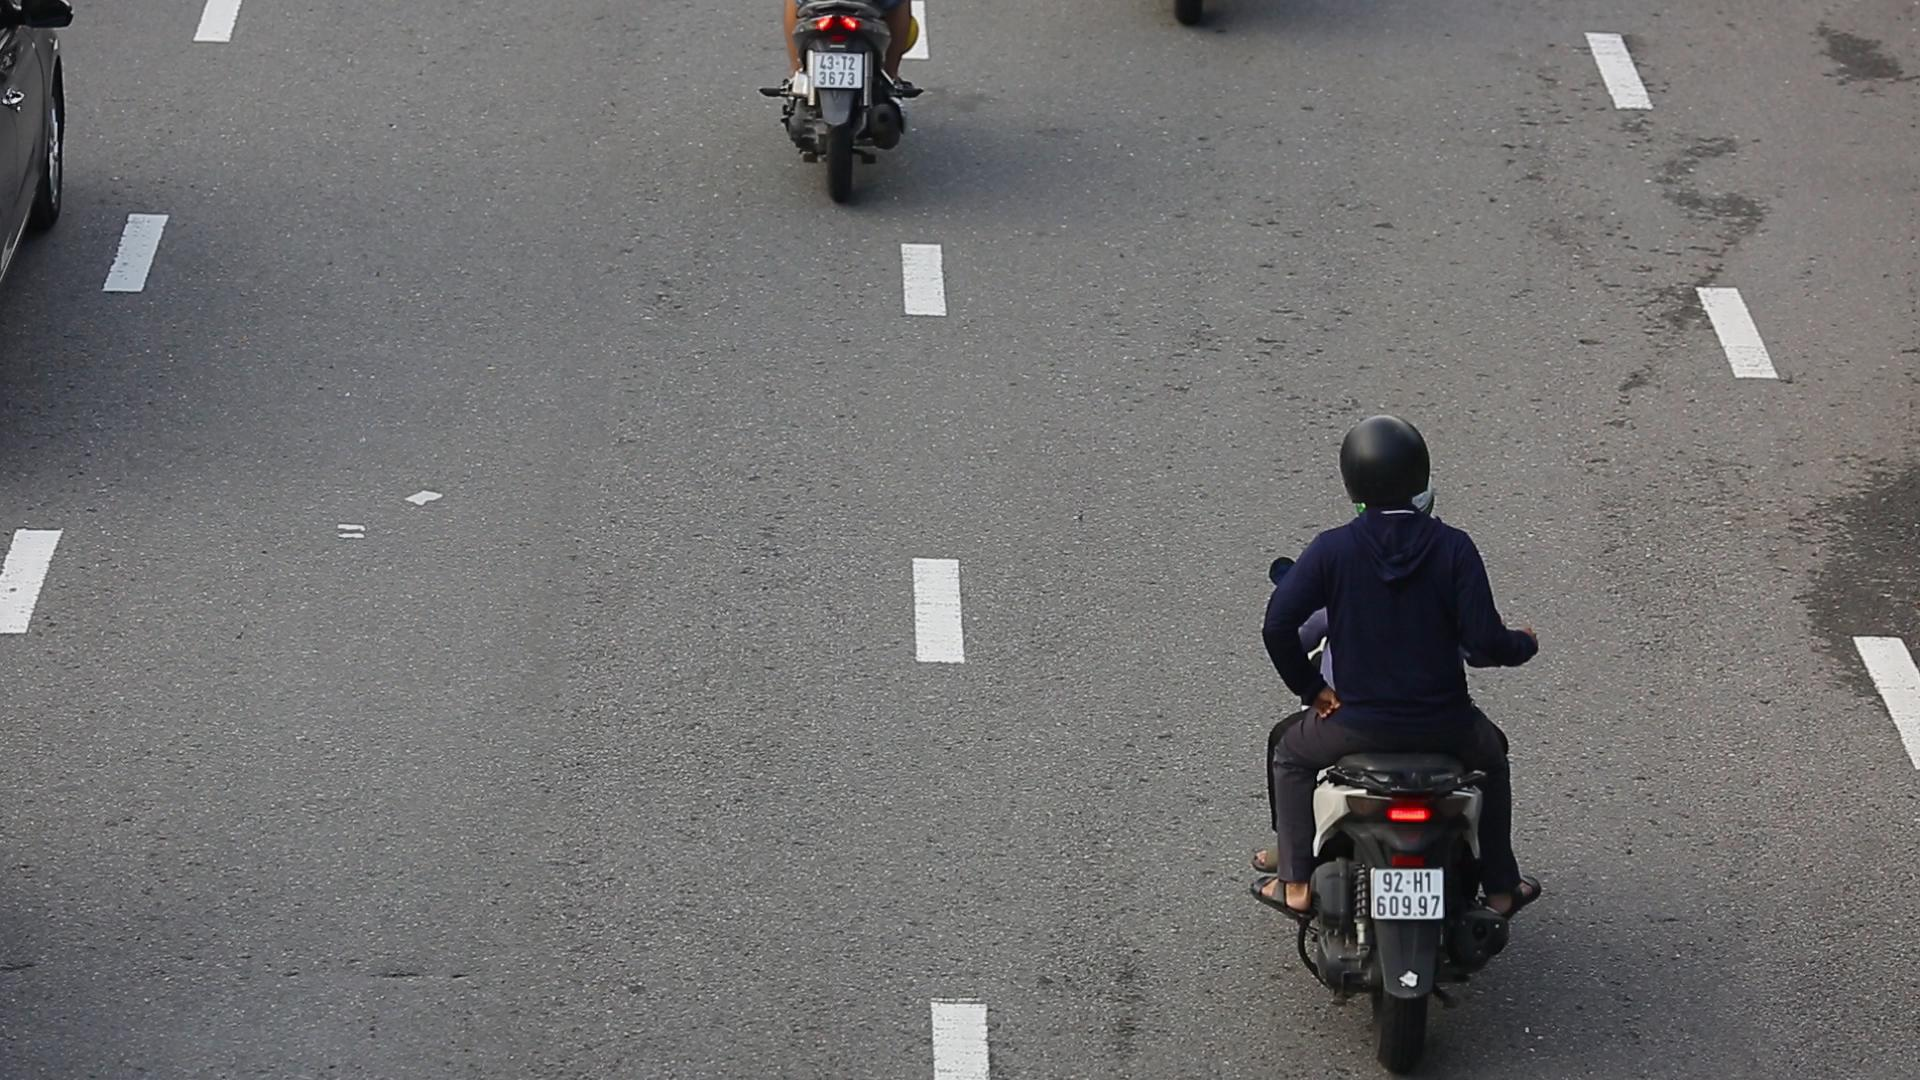motobike: (1253, 409, 1551, 1076)
